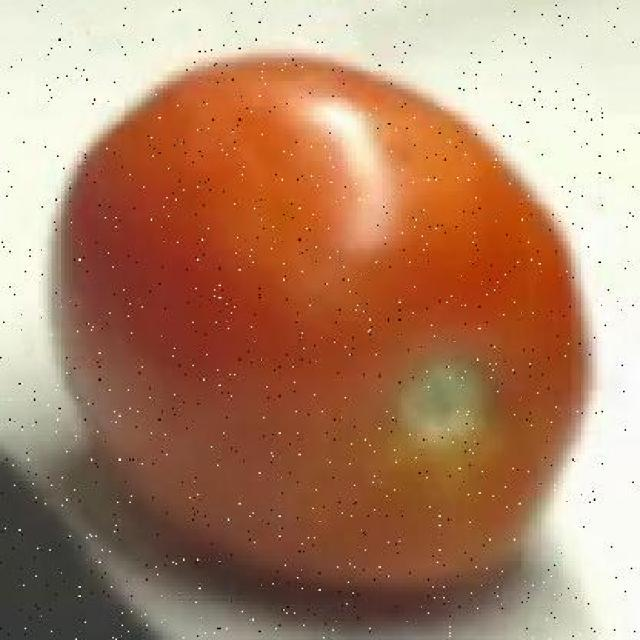tomato: (48, 53, 592, 602)
